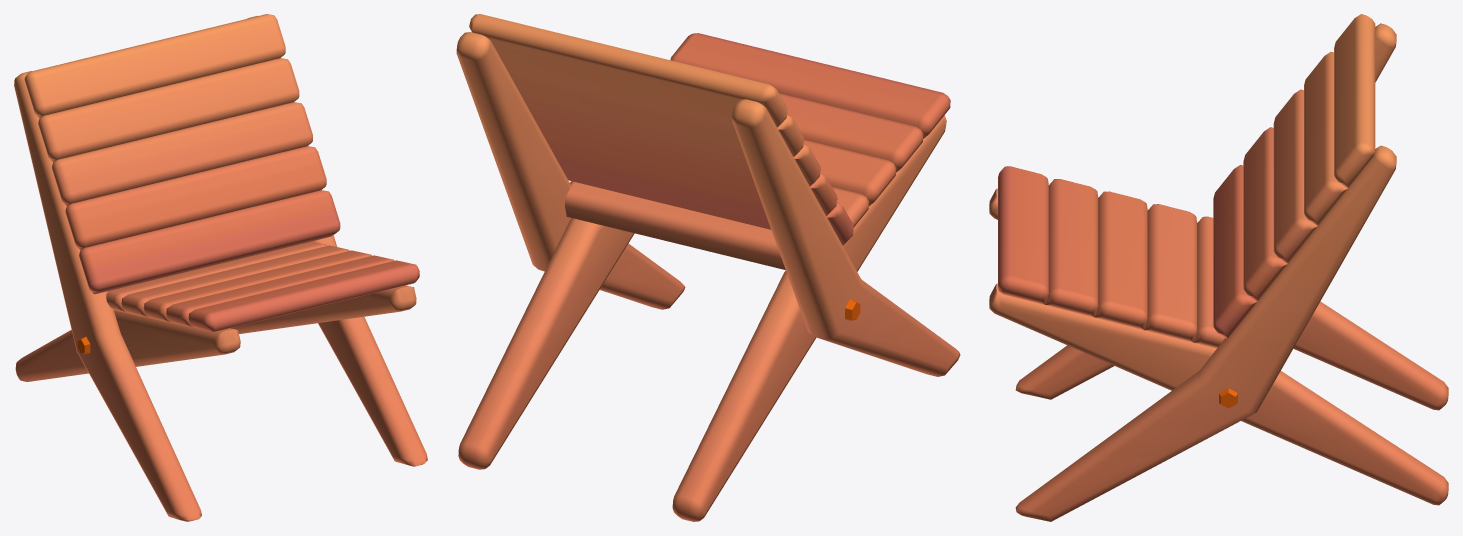
Rendered from Chair_11.glb.
3 views of the same model, side by side, from view 1: azimuth 30°, elevation 25°; view 2: azimuth 150°, elevation 25°; view 3: azimuth 270°, elevation 25° (orthographic). The views are drawn at different scales.
Visible parts, largest first — view 1: Chair_11; view 2: Chair_11; view 3: Chair_11.
Part boxes in pixels (x1,y1,x2,y2): Chair_11: [14, 14, 427, 521]; Chair_11: [456, 14, 960, 521]; Chair_11: [989, 14, 1448, 521].
Size of the model in its own units: 0.52 by 0.6521 by 0.7154.
Materials: 1 (1 with a texture image).
